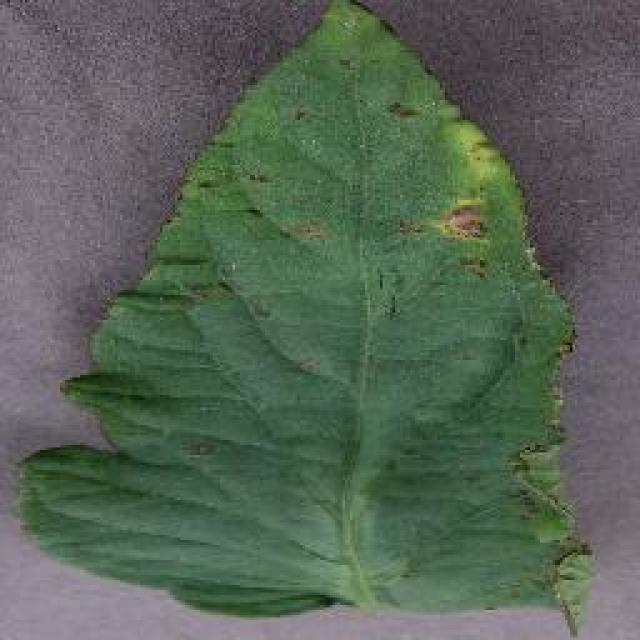Tomato bacterial spot leaf: (52, 2, 602, 628)
